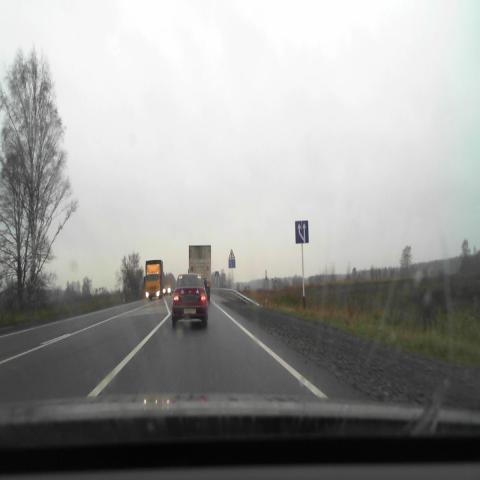5_15_3: (295, 220, 308, 244)
